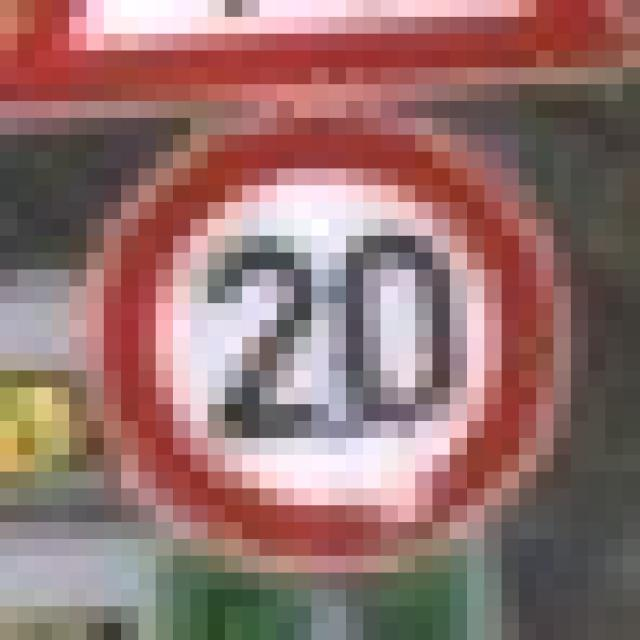Speed Limit -20-: (86, 101, 554, 556)
